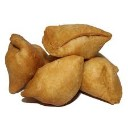samosa: (22, 54, 85, 106), (5, 33, 51, 93), (40, 24, 113, 57), (83, 59, 123, 107)
